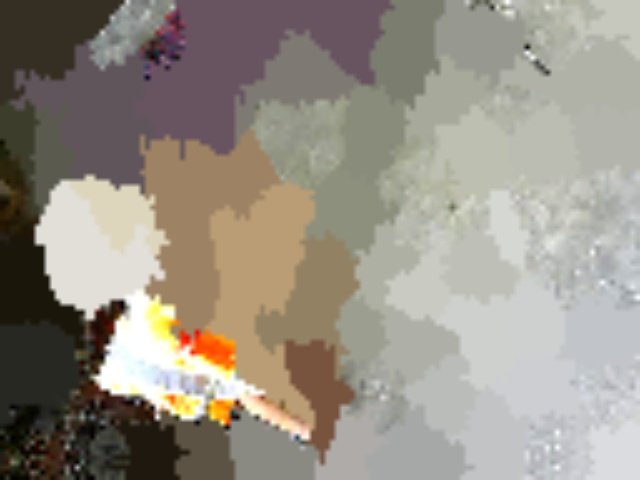three: (60, 211, 120, 275)
